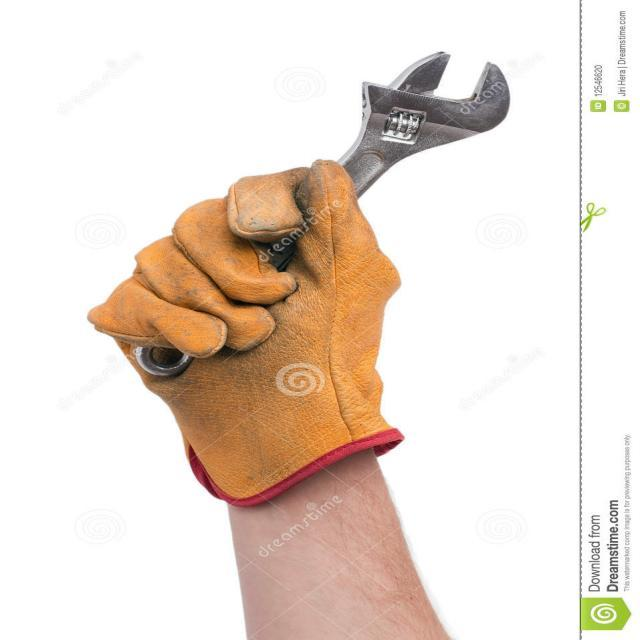wrench: (138, 47, 515, 385)
